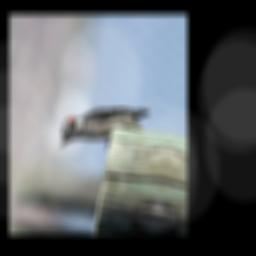Woodpecker: (58, 96, 150, 162)
